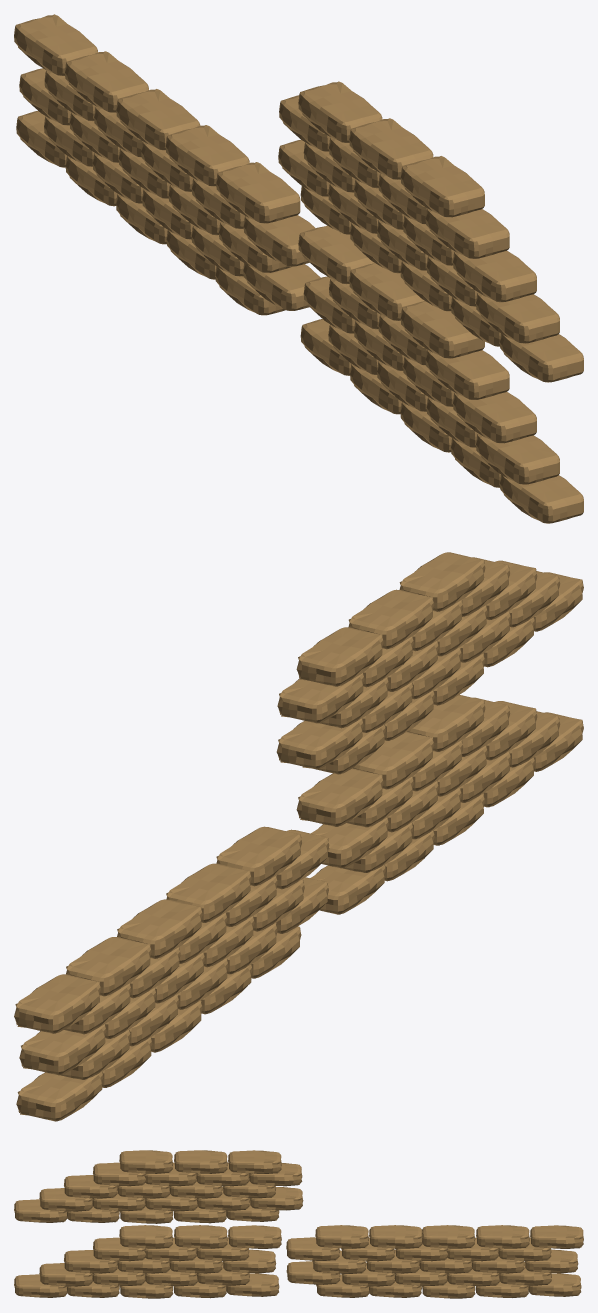
The model's file is Modular_Sandbags.fbx.
3 views of the same model, one above another, from view 1: azimuth 30°, elevation 25°; view 2: azimuth 150°, elevation 25°; view 3: azimuth 270°, elevation 25° (orthographic). The views are drawn at different scales.
Parts seen in each view (by area): view 1: Modular Sandbag Wall, Angled Sandbag Wall.001, Angled Sandbag Wall; view 2: Modular Sandbag Wall, Angled Sandbag Wall.001, Angled Sandbag Wall; view 3: Modular Sandbag Wall, Angled Sandbag Wall.001, Angled Sandbag Wall.
Boxes of the visible parts, x1,y1,x2,y2 form: Modular Sandbag Wall: (14, 14, 320, 315); Angled Sandbag Wall.001: (278, 81, 583, 382); Angled Sandbag Wall: (298, 225, 583, 523); Modular Sandbag Wall: (14, 826, 329, 1121); Angled Sandbag Wall.001: (276, 552, 583, 774); Angled Sandbag Wall: (296, 694, 583, 914); Modular Sandbag Wall: (286, 1225, 583, 1298); Angled Sandbag Wall.001: (14, 1150, 303, 1223); Angled Sandbag Wall: (14, 1225, 281, 1298).
Bounding box in the file's own units: 45.54 × 213 × 800.
